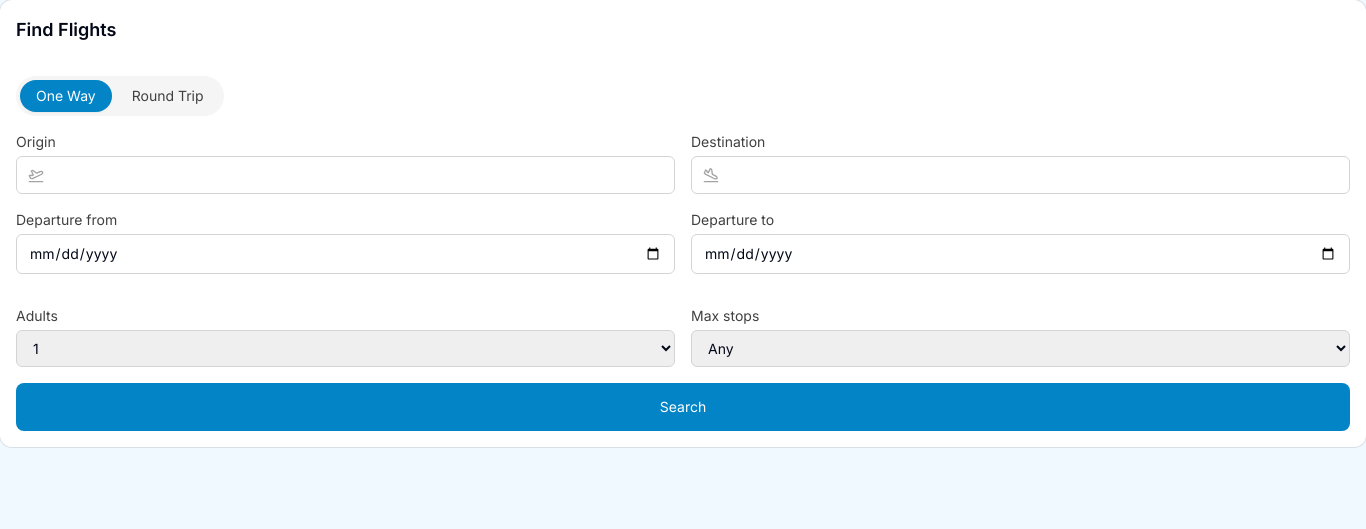
it: SearchForm › return date fields are visible for round_trip
Click the button "Round Trip": {"x": 168, "y": 96} [116, 80, 220, 112]
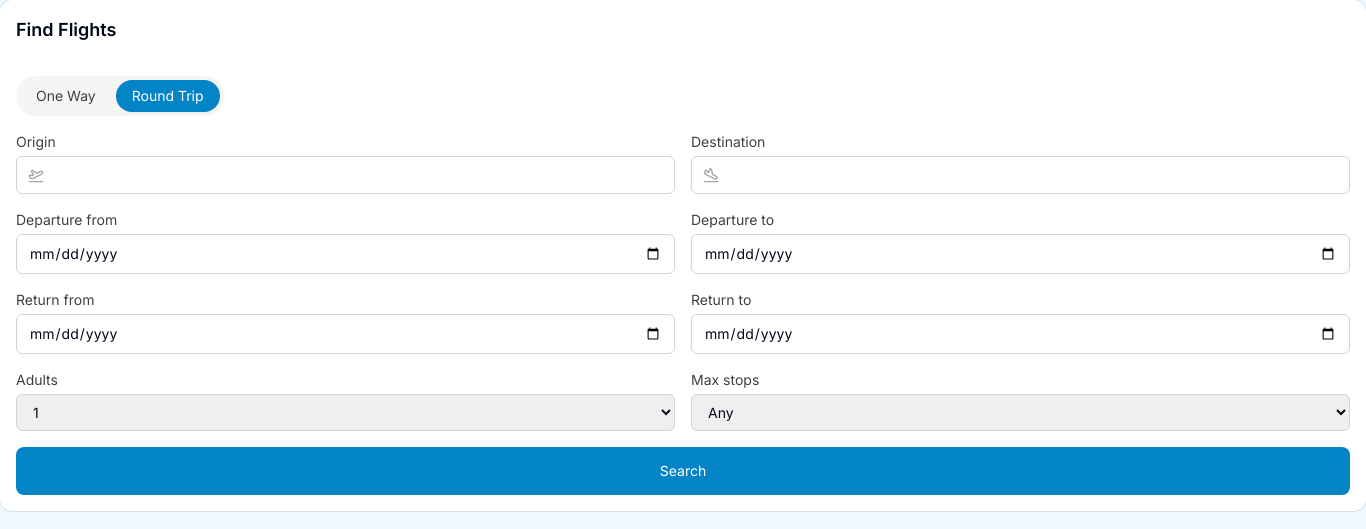
Expected: the date field labelled "Return from" is shown, [16, 314, 675, 354]
Expected: the date field labelled "Return to" is shown, [691, 314, 1350, 354]
